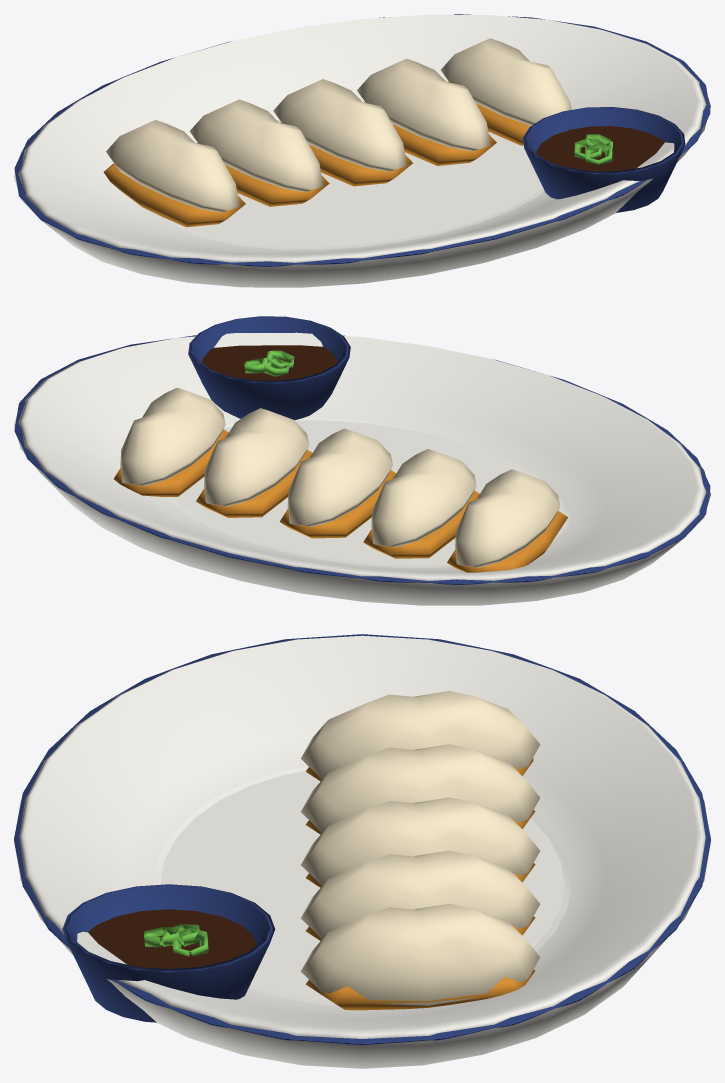
The picture shows the model from 3 angles, top to bottom: view 1: azimuth 30°, elevation 25°; view 2: azimuth 150°, elevation 25°; view 3: azimuth 270°, elevation 25°; orthographic projection. The views are drawn at different scales.
Parts seen in each view (by area): view 1: plate, gyoza, plate_well, crust, sauce_dish, plate_band, sauce, scallion; view 2: plate, gyoza, plate_well, crust, sauce_dish, plate_band, sauce, scallion; view 3: plate, gyoza, plate_well, sauce_dish, plate_band, sauce, crust, scallion.
Part boxes in pixels (x1,y1,x2,y2): plate: (14,14,710,287); gyoza: (106,38,571,212); plate_well: (188,120,542,247); crust: (103,81,530,227); sauce_dish: (523,107,685,212); plate_band: (14,14,710,266); sauce: (536,126,664,171); scallion: (574,134,612,164); plate: (14,332,710,605); gyoza: (120,387,560,567); plate_well: (173,420,564,565); crust: (114,429,567,572); sauce_dish: (188,316,350,419); plate_band: (14,335,710,584); sauce: (202,345,337,380); scallion: (244,350,294,376); plate: (14,635,710,1068); gyoza: (301,691,540,1005); plate_well: (160,771,564,1000); sauce_dish: (62,884,275,1022); plate_band: (14,634,710,1045); sauce: (88,909,256,968); crust: (305,757,535,1010); scallion: (144,924,208,956).
Size of the model in its own units: 0.2 by 0.0268 by 0.144.
